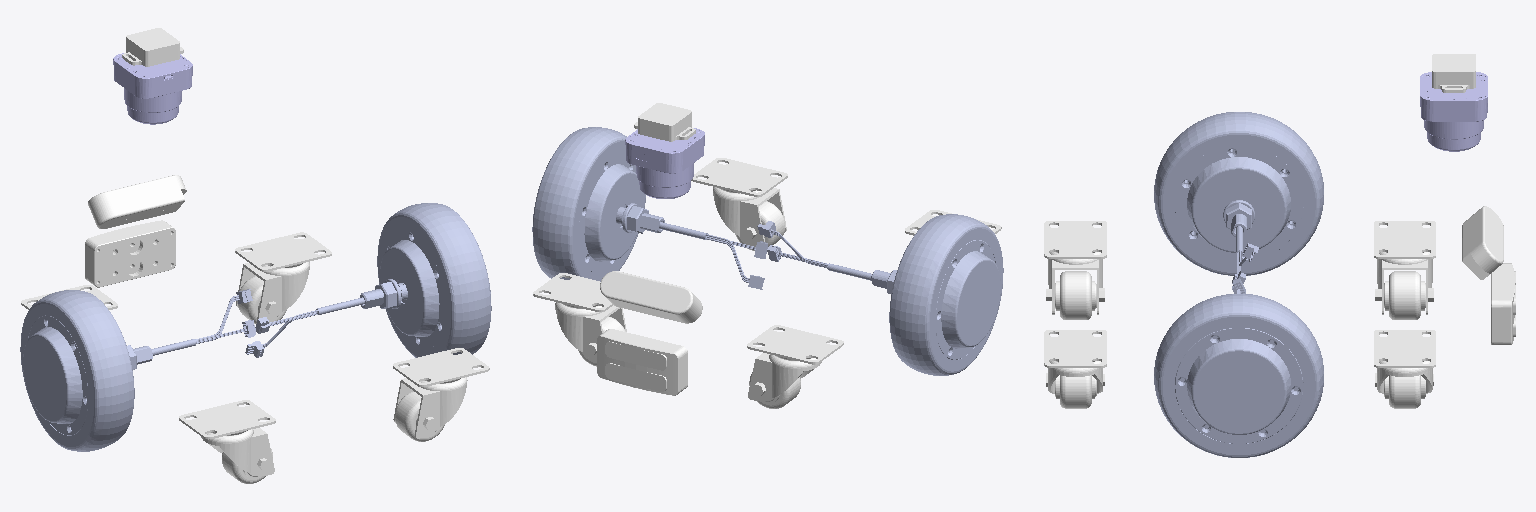
robot.urdf — yuanpan11:
<?xml version="1.0" encoding="utf-8"?>
<!-- This URDF was automatically created by SolidWorks to URDF Exporter! Originally created by [author] ([email redacted]) 
     Commit Version: 1.6.0-4-g7f85cfe  Build Version: 1.6.7995.38578
     For more information, please see http://wiki.ros.org/sw_urdf_exporter -->
<robot
  name="yuanpan11">
  <link
    name="base_link">
    <inertial>
      <origin
        xyz="0.000160565065449656 0.00286016533166569 0.208500585974295"
        rpy="0 0 0" />
      <mass
        value="2.06790188132279" />
      <inertia
        ixx="0.0290886434168063"
        ixy="-0.000105574759287159"
        ixz="-1.7205648373966E-06"
        iyy="0.0259364336140105"
        iyz="-3.86311727700928E-05"
        izz="0.0535312001993594" />
    </inertial>
    <visual>
      <origin
        xyz="0 0 0"
        rpy="0 0 0" />
      <geometry>
        <mesh
          filename="package://yuanpan11/meshes/base_link.STL" />
      </geometry>
      <material
        name="">
        <color
          rgba="0.752941176470588 0.752941176470588 0.752941176470588 1" />
      </material>
    </visual>
    <collision>
      <origin
        xyz="0 0 0"
        rpy="0 0 0" />
      <geometry>
        <mesh
          filename="package://yuanpan11/meshes/base_link.STL" />
      </geometry>
    </collision>
  </link>
  <link
    name="left_wheel_link">
    <inertial>
      <origin
        xyz="-6.16084693196113E-07 -0.0331775000801166 3.08429830064433E-05"
        rpy="0 0 0" />
      <mass
        value="0.626137999017009" />
      <inertia
        ixx="0.000700343581263861"
        ixy="8.14695758275582E-09"
        ixz="-2.66333921335159E-08"
        iyy="0.00127333358768805"
        iyz="4.11524282007024E-08"
        izz="0.000700299743195901" />
    </inertial>
    <visual>
      <origin
        xyz="0 0 0"
        rpy="0 0 0" />
      <geometry>
        <mesh
          filename="package://yuanpan11/meshes/left_wheel_link.STL" />
      </geometry>
      <material
        name="">
        <color
          rgba="0.792156862745098 0.819607843137255 0.929411764705882 1" />
      </material>
    </visual>
    <collision>
      <origin
        xyz="0 0 0"
        rpy="0 0 0" />
      <geometry>
        <mesh
          filename="package://yuanpan11/meshes/left_wheel_link.STL" />
      </geometry>
    </collision>
  </link>
  <joint
    name="left_wheel_joint"
    type="continuous">
    <origin
      xyz="-0.20725 1.5084E-05 0.069504"
      rpy="0 0 1.5708" />
    <parent
      link="base_link" />
    <child
      link="left_wheel_link" />
    <axis
      xyz="0 1 0" />
    <limit
      lower="-3.14"
      upper="3.14"
      effort="100"
      velocity="1" />
  </joint>
  <link
    name="right_wheel_link">
    <inertial>
      <origin
        xyz="-6.16084684749658E-07 0.0331775000801134 -3.08429829931622E-05"
        rpy="0 0 0" />
      <mass
        value="0.626137999016759" />
      <inertia
        ixx="0.000700343581263556"
        ixy="-8.14695762607422E-09"
        ixz="2.66333923079023E-08"
        iyy="0.00127333358768766"
        iyz="4.11524281221561E-08"
        izz="0.000700299743195774" />
    </inertial>
    <visual>
      <origin
        xyz="0 0 0"
        rpy="0 0 0" />
      <geometry>
        <mesh
          filename="package://yuanpan11/meshes/right_wheel_link.STL" />
      </geometry>
      <material
        name="">
        <color
          rgba="0.792156862745098 0.819607843137255 0.929411764705882 1" />
      </material>
    </visual>
    <collision>
      <origin
        xyz="0 0 0"
        rpy="0 0 0" />
      <geometry>
        <mesh
          filename="package://yuanpan11/meshes/right_wheel_link.STL" />
      </geometry>
    </collision>
  </link>
  <joint
    name="right_wheel_joint"
    type="continuous">
    <origin
      xyz="0.20725 1.50837180972794E-05 0.0694962036282553"
      rpy="0 0 1.5707963267949" />
    <parent
      link="base_link" />
    <child
      link="right_wheel_link" />
    <axis
      xyz="0 1 0" />
    <limit
      lower="-3.14"
      upper="3.14"
      effort="100"
      velocity="1" />
  </joint>
  <link
    name="IMU_link">
    <inertial>
      <origin
        xyz="0 -7.27940114870346E-18 -0.00772134446819678"
        rpy="0 0 0" />
      <mass
        value="0.0195581289501332" />
      <inertia
        ixx="2.61910890654139E-06"
        ixy="-5.03579244451058E-22"
        ixz="-5.8301663470785E-21"
        iyy="2.43088811199384E-06"
        iyz="4.48109496582454E-23"
        izz="4.29250911843408E-06" />
    </inertial>
    <visual>
      <origin
        xyz="0 0 0"
        rpy="0 0 0" />
      <geometry>
        <mesh
          filename="package://yuanpan11/meshes/IMU_link.STL" />
      </geometry>
      <material
        name="">
        <color
          rgba="1 1 1 1" />
      </material>
    </visual>
    <collision>
      <origin
        xyz="0 0 0"
        rpy="0 0 0" />
      <geometry>
        <mesh
          filename="package://yuanpan11/meshes/IMU_link.STL" />
      </geometry>
    </collision>
  </link>
  <joint
    name="IMU_joint"
    type="fixed">
    <origin
      xyz="-1.4289E-05 0.175 0.269"
      rpy="0 0 1.5708" />
    <parent
      link="base_link" />
    <child
      link="IMU_link" />
    <axis
      xyz="0 0 0" />
  </joint>
  <link
    name="Lidar_link">
    <inertial>
      <origin
        xyz="-6.21551030561274E-05 1.90370153045296E-06 0.0305963842159579"
        rpy="0 0 0" />
      <mass
        value="0.0169564206709369" />
      <inertia
        ixx="6.58123918305066E-06"
        ixy="-2.05451013724043E-10"
        ixz="-7.85283609103831E-09"
        iyy="6.52152707698834E-06"
        iyz="5.81290731645276E-11"
        izz="1.00998952021924E-05" />
    </inertial>
    <visual>
      <origin
        xyz="0 0 0"
        rpy="0 0 0" />
      <geometry>
        <mesh
          filename="package://yuanpan11/meshes/Lidar_link.STL" />
      </geometry>
      <material
        name="">
        <color
          rgba="0.823529411764706 0.823529411764706 1 1" />
      </material>
    </visual>
    <collision>
      <origin
        xyz="0 0 0"
        rpy="0 0 0" />
      <geometry>
        <mesh
          filename="package://yuanpan11/meshes/Lidar_link.STL" />
      </geometry>
    </collision>
  </link>
  <joint
    name="Lidar_joint"
    type="fixed">
    <origin
      xyz="-1.5394E-05 0.175 0.197"
      rpy="0 0 1.5708" />
    <parent
      link="base_link" />
    <child
      link="Lidar_link" />
    <axis
      xyz="0 0 0" />
  </joint>
  <link
    name="Camera_link">
    <inertial>
      <origin
        xyz="-0.0122760581458287 0.00138154410968368 0.000428689425324022"
        rpy="0 0 0" />
      <mass
        value="0.0509650046640282" />
      <inertia
        ixx="3.13412106179662E-05"
        ixy="5.24676957098003E-07"
        ixz="3.313267721725E-09"
        iyy="5.14944429385339E-06"
        iyz="-1.83220793775386E-08"
        izz="3.14359744854182E-05" />
    </inertial>
    <visual>
      <origin
        xyz="0 0 0"
        rpy="0 0 0" />
      <geometry>
        <mesh
          filename="package://yuanpan11/meshes/Camera_link.STL" />
      </geometry>
      <material
        name="">
        <color
          rgba="1 1 1 1" />
      </material>
    </visual>
    <collision>
      <origin
        xyz="0 0 0"
        rpy="0 0 0" />
      <geometry>
        <mesh
          filename="package://yuanpan11/meshes/Camera_link.STL" />
      </geometry>
    </collision>
  </link>
  <joint
    name="Camera_joint"
    type="fixed">
    <origin
      xyz="0 0.2077 0.11535"
      rpy="0 -0.7854 1.5708" />
    <parent
      link="base_link" />
    <child
      link="Camera_link" />
    <axis
      xyz="0 0 0" />
  </joint>
  <link
    name="Charge_link">
    <inertial>
      <origin
        xyz="-0.00839769425842102 -4.72574465869904E-10 1.78329573330416E-15"
        rpy="0 0 0" />
      <mass
        value="0.0578031104717217" />
      <inertia
        ixx="3.49546854989521E-05"
        ixy="-7.16610850520134E-14"
        ixz="-5.0935732686843E-19"
        iyy="6.5407830187358E-06"
        iyz="2.60632197831486E-10"
        izz="3.13484130556724E-05" />
    </inertial>
    <visual>
      <origin
        xyz="0 0 0"
        rpy="0 0 0" />
      <geometry>
        <mesh
          filename="package://yuanpan11/meshes/Charge_link.STL" />
      </geometry>
      <material
        name="">
        <color
          rgba="1 1 1 1" />
      </material>
    </visual>
    <collision>
      <origin
        xyz="0 0 0"
        rpy="0 0 0" />
      <geometry>
        <mesh
          filename="package://yuanpan11/meshes/Charge_link.STL" />
      </geometry>
    </collision>
  </link>
  <joint
    name="Charge_joint"
    type="fixed">
    <origin
      xyz="0 0.22334 0.052"
      rpy="0 0 1.5708" />
    <parent
      link="base_link" />
    <child
      link="Charge_link" />
    <axis
      xyz="0 0 0" />
  </joint>
  <link
    name="fleft_link">
    <inertial>
      <origin
        xyz="3.6098852304961E-05 -0.0125680375714404 -0.0280416209294268"
        rpy="0 0 0" />
      <mass
        value="0.0644692648959889" />
      <inertia
        ixx="1.28203235206611E-05"
        ixy="2.17246739697773E-08"
        ixz="2.76788843718096E-08"
        iyy="1.14322836972242E-05"
        iyz="-4.24441852397496E-07"
        izz="1.57992175620806E-05" />
    </inertial>
    <visual>
      <origin
        xyz="0 0 0"
        rpy="0 0 0" />
      <geometry>
        <mesh
          filename="package://yuanpan11/meshes/fleft_link.STL" />
      </geometry>
      <material
        name="">
        <color
          rgba="1 1 1 1" />
      </material>
    </visual>
    <collision>
      <origin
        xyz="0 0 0"
        rpy="0 0 0" />
      <geometry>
        <mesh
          filename="package://yuanpan11/meshes/fleft_link.STL" />
      </geometry>
    </collision>
  </link>
  <joint
    name="fleft_joint"
    type="continuous">
    <origin
      xyz="-0.105 0.135 0.062"
      rpy="0 0 1.5708" />
    <parent
      link="base_link" />
    <child
      link="fleft_link" />
    <axis
      xyz="0 0 1" />
  </joint>
  <link
    name="fright_link">
    <inertial>
      <origin
        xyz="-3.60971463973792E-05 0.0125680238062226 -0.0280416053781241"
        rpy="0 0 0" />
      <mass
        value="0.0644692242522017" />
      <inertia
        ixx="1.28202776644825E-05"
        ixy="2.17338474794164E-08"
        ixz="-2.76786938964116E-08"
        iyy="1.14322643372769E-05"
        iyz="4.24415707558846E-07"
        izz="1.57992124324547E-05" />
    </inertial>
    <visual>
      <origin
        xyz="0 0 0"
        rpy="0 0 0" />
      <geometry>
        <mesh
          filename="package://yuanpan11/meshes/fright_link.STL" />
      </geometry>
      <material
        name="">
        <color
          rgba="1 1 1 1" />
      </material>
    </visual>
    <collision>
      <origin
        xyz="0 0 0"
        rpy="0 0 0" />
      <geometry>
        <mesh
          filename="package://yuanpan11/meshes/fright_link.STL" />
      </geometry>
    </collision>
  </link>
  <joint
    name="fright_joint"
    type="continuous">
    <origin
      xyz="0.105 0.135 0.062"
      rpy="0 0 1.5708" />
    <parent
      link="base_link" />
    <child
      link="fright_link" />
    <axis
      xyz="0 0 1" />
  </joint>
  <link
    name="bleft_link">
    <inertial>
      <origin
        xyz="-0.00274668234996364 -0.0125680375714403 -0.0330416209294269"
        rpy="0 0 0" />
      <mass
        value="0.0644692648959889" />
      <inertia
        ixx="1.28203235206594E-05"
        ixy="2.17246736978843E-08"
        ixz="2.76788846101941E-08"
        iyy="1.14322836483689E-05"
        iyz="-4.24441852398229E-07"
        izz="1.57992175132252E-05" />
    </inertial>
    <visual>
      <origin
        xyz="0 0 0"
        rpy="0 0 0" />
      <geometry>
        <mesh
          filename="package://yuanpan11/meshes/bleft_link.STL" />
      </geometry>
      <material
        name="">
        <color
          rgba="1 1 1 1" />
      </material>
    </visual>
    <collision>
      <origin
        xyz="0 0 0"
        rpy="0 0 0" />
      <geometry>
        <mesh
          filename="package://yuanpan11/meshes/bleft_link.STL" />
      </geometry>
    </collision>
  </link>
  <joint
    name="bleft_joint"
    type="continuous">
    <origin
      xyz="-0.105 -0.13022 0.067"
      rpy="0 0 1.5708" />
    <parent
      link="base_link" />
    <child
      link="bleft_link" />
    <axis
      xyz="0 0 1" />
  </joint>
  <link
    name="bright_link">
    <inertial>
      <origin
        xyz="-0.00281887834877126 0.0125680238062225 -0.033041605378124"
        rpy="0 0 0" />
      <mass
        value="0.0644692242522021" />
      <inertia
        ixx="1.28202776644608E-05"
        ixy="2.17338475145015E-08"
        ixz="-2.76786938179229E-08"
        iyy="1.14322646190427E-05"
        iyz="4.24415707558662E-07"
        izz="1.57992127142417E-05" />
    </inertial>
    <visual>
      <origin
        xyz="0 0 0"
        rpy="0 0 0" />
      <geometry>
        <mesh
          filename="package://yuanpan11/meshes/bright_link.STL" />
      </geometry>
      <material
        name="">
        <color
          rgba="1 1 1 1" />
      </material>
    </visual>
    <collision>
      <origin
        xyz="0 0 0"
        rpy="0 0 0" />
      <geometry>
        <mesh
          filename="package://yuanpan11/meshes/bright_link.STL" />
      </geometry>
    </collision>
  </link>
  <joint
    name="bright_joint"
    type="continuous">
    <origin
      xyz="0.105 -0.13022 0.067"
      rpy="0 0 1.5708" />
    <parent
      link="base_link" />
    <child
      link="bright_link" />
    <axis
      xyz="0 0 1" />
  </joint>
</robot>

--- Render facts (derived) ---
3 views of the same robot in one strip: view 1: azimuth 30°, elevation 25°; view 2: azimuth 150°, elevation 25°; view 3: azimuth 270°, elevation 25° (orthographic).
Robot: yuanpan11 — 11 links, 10 joints (6 continuous, 4 fixed); root link base_link; default pose: every joint at zero.
Links seen in each view (by area): view 1: left_wheel_link, right_wheel_link, bright_link, fright_link, bleft_link, Charge_link, Lidar_link, Camera_link, IMU_link; view 2: left_wheel_link, right_wheel_link, bright_link, fleft_link, Charge_link, fright_link, Lidar_link, Camera_link, IMU_link; view 3: right_wheel_link, left_wheel_link, bleft_link, fleft_link, bright_link, fright_link, Lidar_link, Camera_link, Charge_link, IMU_link.
Boxes of the visible links, x1,y1,x2,y2 form: left_wheel_link: (20, 289, 255, 451); right_wheel_link: (245, 203, 491, 357); bright_link: (393, 348, 489, 441); fright_link: (235, 232, 331, 323); bleft_link: (179, 400, 275, 483); Charge_link: (85, 220, 175, 287); Lidar_link: (113, 53, 192, 124); Camera_link: (88, 175, 186, 228); IMU_link: (122, 28, 183, 66); left_wheel_link: (757, 214, 1003, 375); right_wheel_link: (532, 127, 767, 289); bright_link: (691, 158, 787, 250); fleft_link: (747, 325, 843, 408); Charge_link: (597, 329, 687, 395); fright_link: (533, 273, 626, 366); Lidar_link: (625, 128, 704, 198); Camera_link: (600, 271, 702, 323); IMU_link: (634, 103, 695, 141); right_wheel_link: (1154, 278, 1323, 457); left_wheel_link: (1154, 112, 1323, 285); bleft_link: (1044, 221, 1106, 319); fleft_link: (1374, 221, 1435, 319); bright_link: (1044, 330, 1106, 408); fright_link: (1374, 330, 1435, 408); Lidar_link: (1420, 72, 1487, 151); Camera_link: (1462, 206, 1503, 279); Charge_link: (1491, 263, 1515, 344); IMU_link: (1432, 54, 1475, 92).
Size in the robot's own frame: 0.4145 by 0.3835 by 0.269 metres.
Meshes: 11 distinct files referenced, 10 mesh visuals loaded (10 binary STL); not drawn: 1 (reference not matched to a file when rendering).
